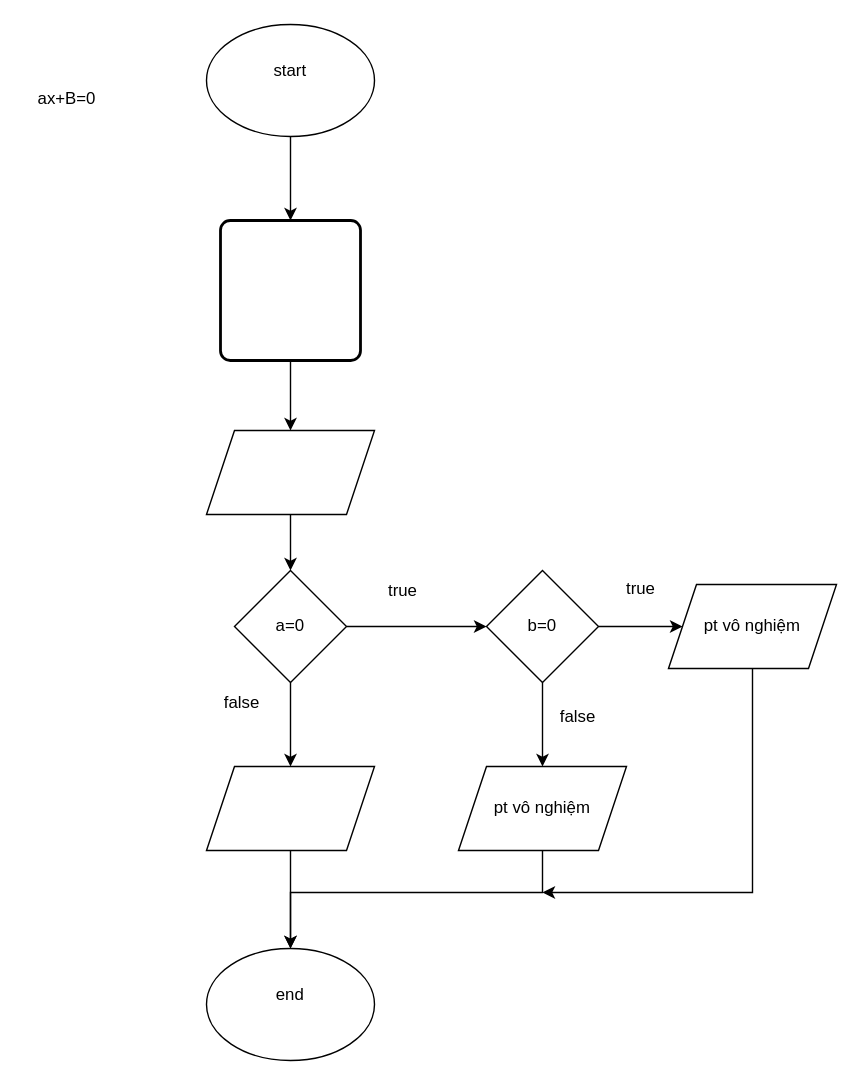
This 861x1085 diagram has some shape labels left out. The box of each missing label's shape, as (x1, y1, x2, y2) in pixels:
khái báo biến a khái báo biến b: (218, 218, 361, 361)
nhập a,b: (205, 429, 374, 514)
x=-b/a: (205, 765, 374, 850)
